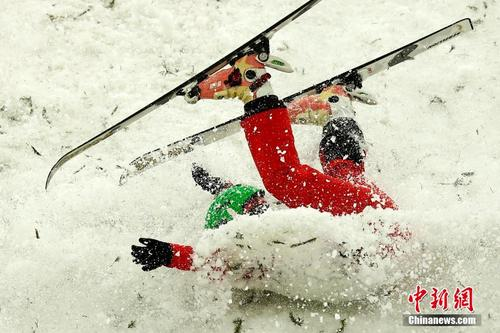down: (129, 44, 412, 282)
